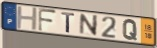2: (101, 16, 118, 40)
F: (38, 7, 58, 33)
H: (16, 6, 39, 31)
N: (79, 13, 100, 37)
Q: (122, 18, 139, 41)
T: (60, 11, 76, 34)
